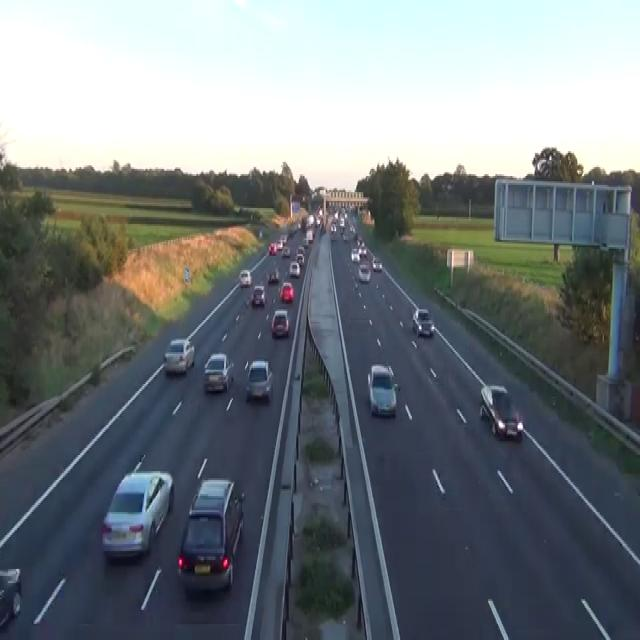Car: (101, 453, 174, 560), (177, 478, 245, 592), (479, 384, 523, 441), (367, 363, 399, 416), (202, 352, 234, 393), (0, 567, 21, 629), (244, 359, 273, 402), (163, 338, 195, 373), (412, 308, 434, 336), (271, 309, 289, 338), (278, 281, 294, 302), (251, 284, 266, 306), (632, 310, 639, 356), (357, 263, 370, 283), (238, 268, 252, 286), (267, 266, 279, 282), (289, 262, 300, 278), (372, 256, 382, 272), (350, 247, 359, 261), (295, 251, 304, 265), (305, 228, 314, 242), (358, 245, 367, 258), (281, 245, 290, 256), (268, 242, 276, 254), (276, 238, 283, 249), (330, 222, 336, 233), (314, 215, 320, 226), (288, 228, 296, 236), (302, 237, 308, 247), (274, 218, 280, 228), (297, 246, 304, 254), (343, 233, 349, 242), (281, 234, 287, 243), (339, 217, 344, 227), (350, 224, 355, 233), (320, 224, 325, 233), (258, 230, 262, 238), (297, 222, 301, 230)
